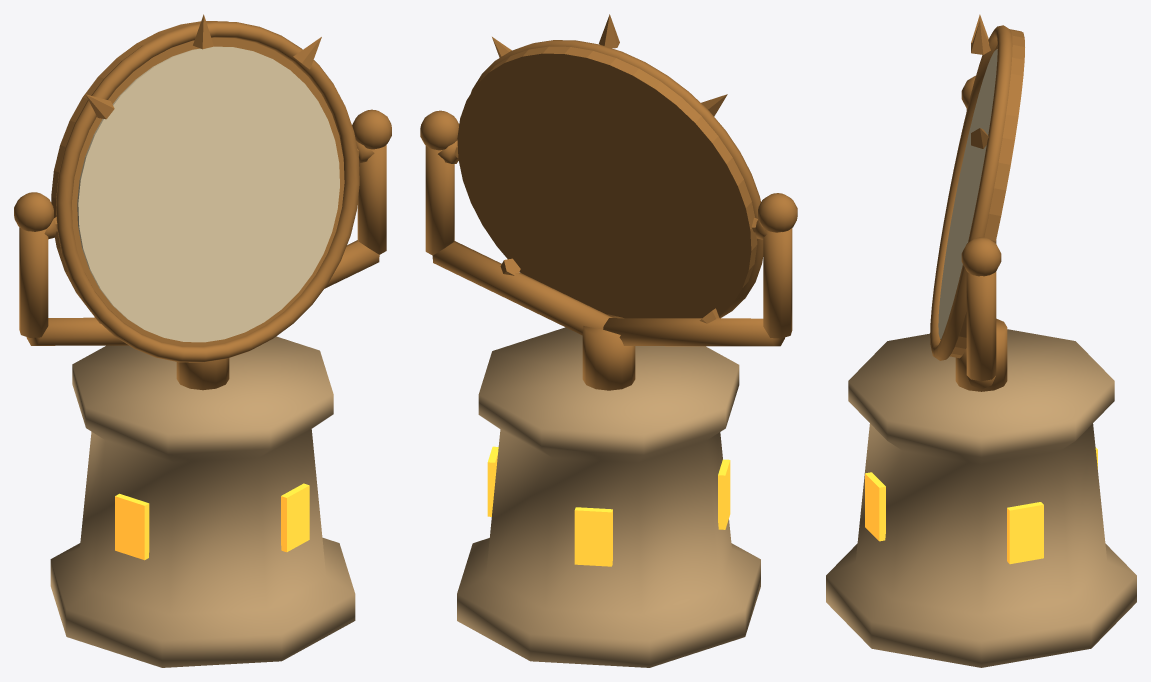
File: spiegelplatte.glb
The picture shows the model from 3 angles, left to right: view 1: azimuth 30°, elevation 25°; view 2: azimuth 150°, elevation 25°; view 3: azimuth 270°, elevation 25°; orthographic projection.
Visible parts, largest first — view 1: d; view 2: d; view 3: d.
Boxes of the visible parts, box(x1,y1,x2,y2) form: d: box(14, 14, 391, 667); d: box(420, 14, 797, 667); d: box(826, 14, 1136, 667).
Size of the model in its own units: 1.14 by 1.74 by 0.84.
